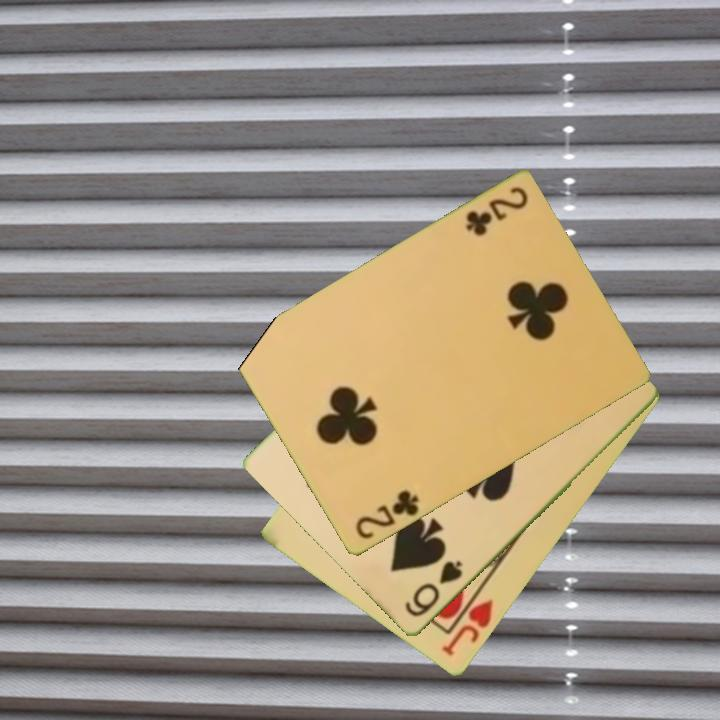2c: (351, 487, 422, 543), (462, 183, 531, 240)
6s: (401, 557, 466, 621)
Jh: (438, 596, 497, 660)
